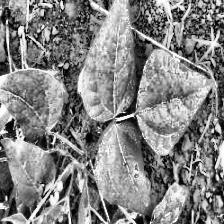ALS: (91, 123, 185, 224), (142, 52, 212, 156)
